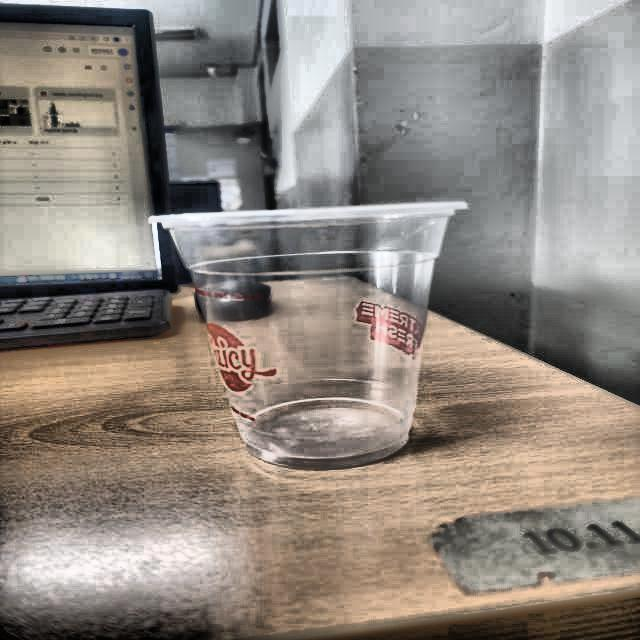plastic cup: (142, 199, 470, 466)
